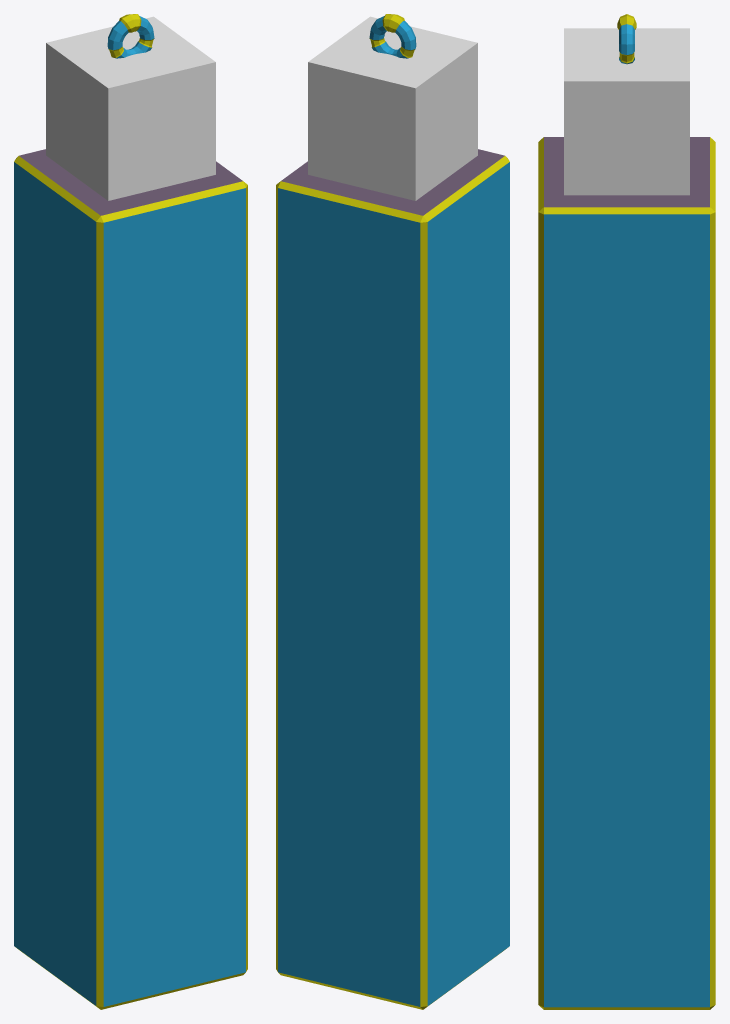
File: building.fbx
3 views of the same model, side by side, from view 1: azimuth 30°, elevation 25°; view 2: azimuth 150°, elevation 25°; view 3: azimuth 270°, elevation 25° (orthographic).
Parts seen in each view (by area): view 1: Cube, trigger, Torus; view 2: Cube, trigger, Torus; view 3: Cube, trigger, Torus.
Boxes of the visible parts, bbox=[...] form: Cube: bbox=[14, 149, 247, 1009]; trigger: bbox=[46, 16, 215, 200]; Torus: bbox=[107, 14, 154, 58]; Cube: bbox=[276, 149, 509, 1009]; trigger: bbox=[308, 16, 477, 200]; Torus: bbox=[369, 14, 416, 58]; Cube: bbox=[538, 137, 715, 1009]; trigger: bbox=[564, 28, 689, 195]; Torus: bbox=[617, 14, 636, 64].
Size of the model in its own units: 1000 by 5970 by 1000.
